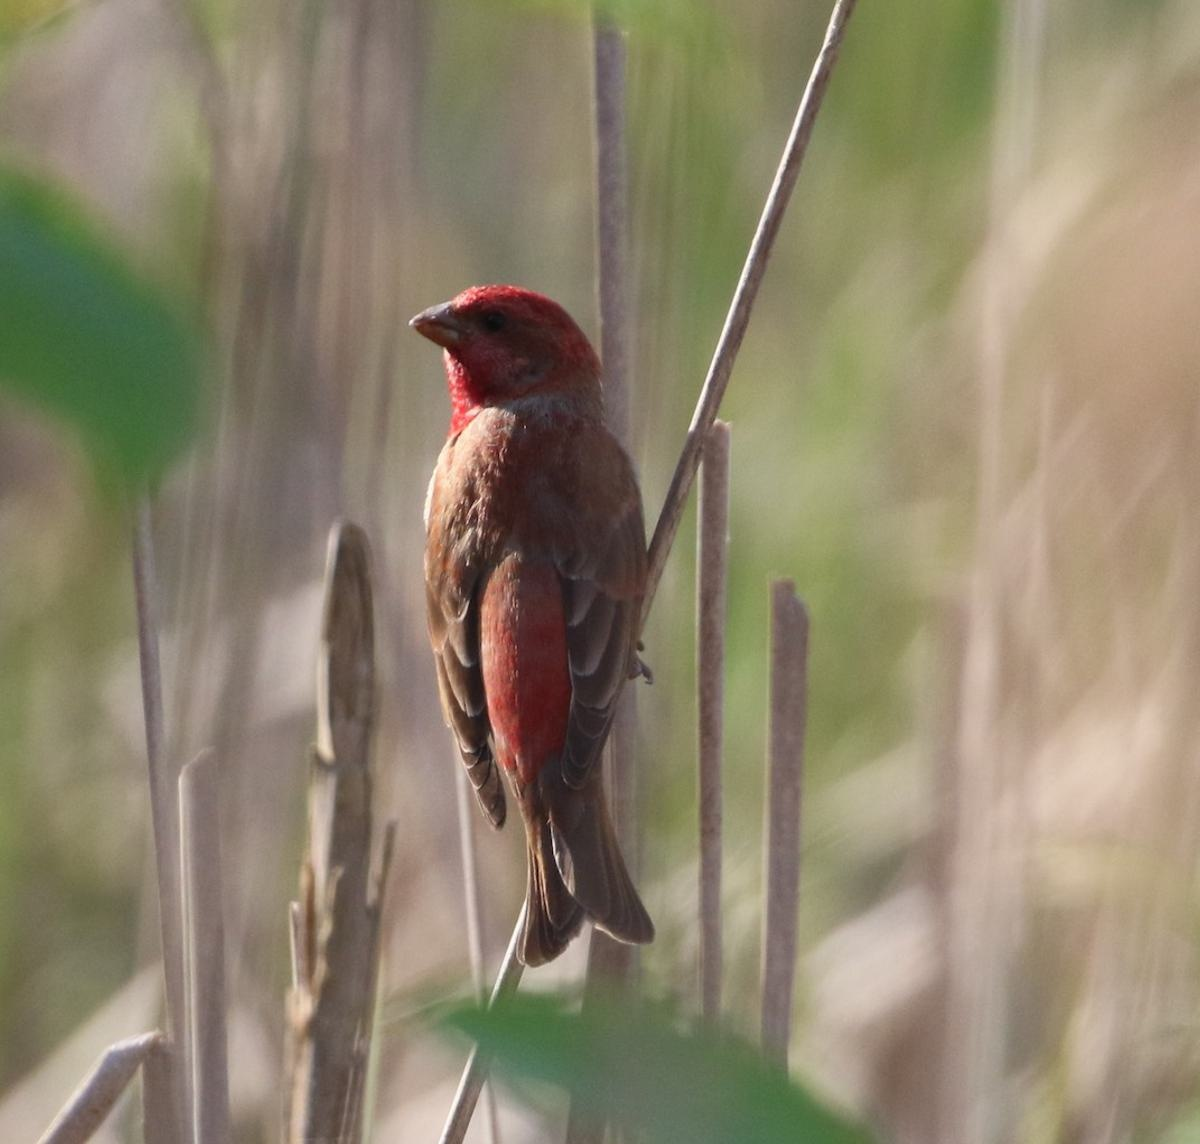rosefinch: (388, 198, 660, 883)
